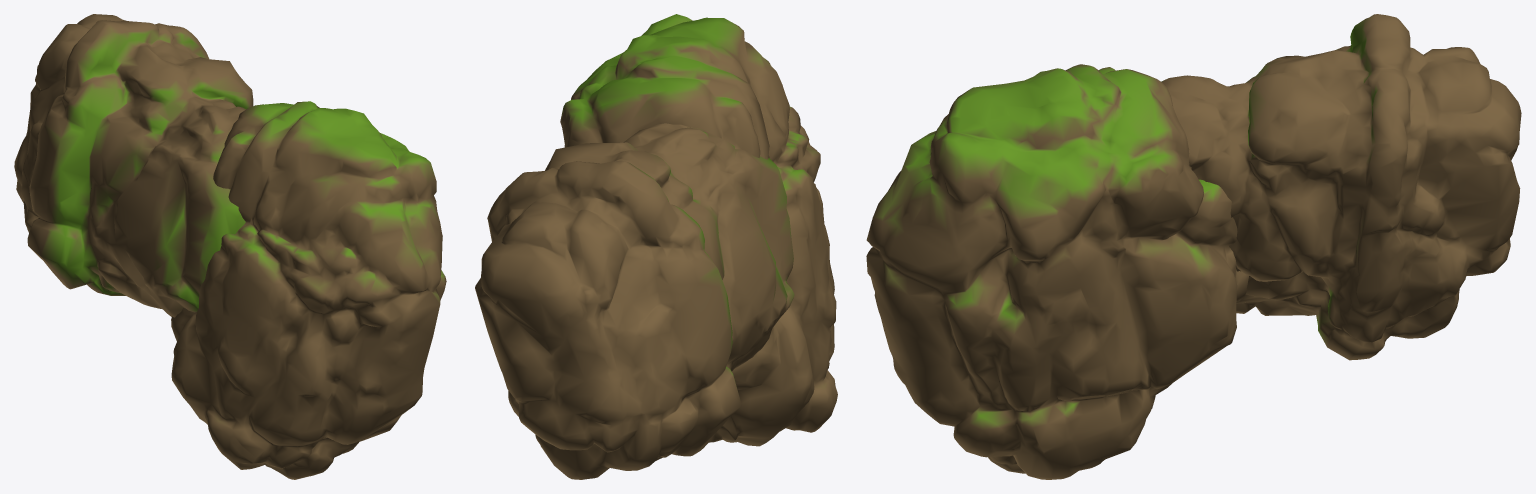
Rendered from cell_x3_z-2_render.gltf.
3 views of the same model, side by side, from view 1: azimuth 30°, elevation 25°; view 2: azimuth 150°, elevation 25°; view 3: azimuth 270°, elevation 25° (orthographic). The views are drawn at different scales.
Parts seen in each view (by area): view 1: SM_ENV_cliff_castle_01_LOD0.051, SM_ENV_cliff_castle_02_LOD0.033; view 2: SM_ENV_cliff_castle_02_LOD0.033, SM_ENV_cliff_castle_01_LOD0.051; view 3: SM_ENV_cliff_castle_01_LOD0.051, SM_ENV_cliff_castle_02_LOD0.033.
Boxes of the visible parts, x1,y1,x2,y2 form: SM_ENV_cliff_castle_01_LOD0.051: [171, 101, 446, 479]; SM_ENV_cliff_castle_02_LOD0.033: [14, 14, 253, 317]; SM_ENV_cliff_castle_02_LOD0.033: [475, 123, 794, 479]; SM_ENV_cliff_castle_01_LOD0.051: [560, 14, 837, 446]; SM_ENV_cliff_castle_01_LOD0.051: [866, 64, 1248, 479]; SM_ENV_cliff_castle_02_LOD0.033: [1161, 14, 1521, 360].
Size of the model in its own units: 38.14 by 49.37 by 68.83.
